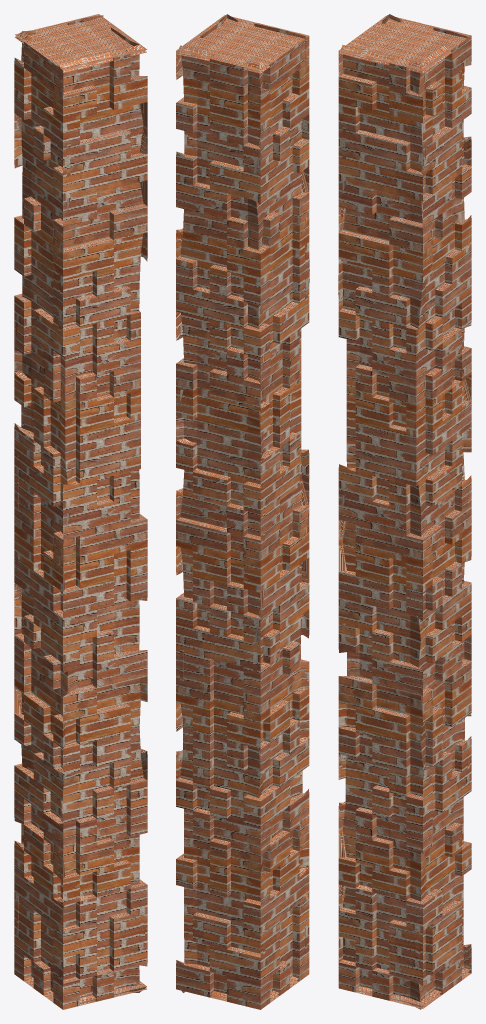
File: brick.fbx
The picture shows the model from 3 angles, left to right: view 1: azimuth 30°, elevation 25°; view 2: azimuth 150°, elevation 25°; view 3: azimuth 330°, elevation 25°; orthographic projection.
Parts seen in each view (by area): view 1: Cube; view 2: Cube; view 3: Cube.
Part boxes in pixels (<box>): Cube: <box>14,14,147,1009</box>; Cube: <box>176,14,309,1009</box>; Cube: <box>338,14,471,1009</box>.
Bounding box in the file's own units: 202 × 2143 × 201.
